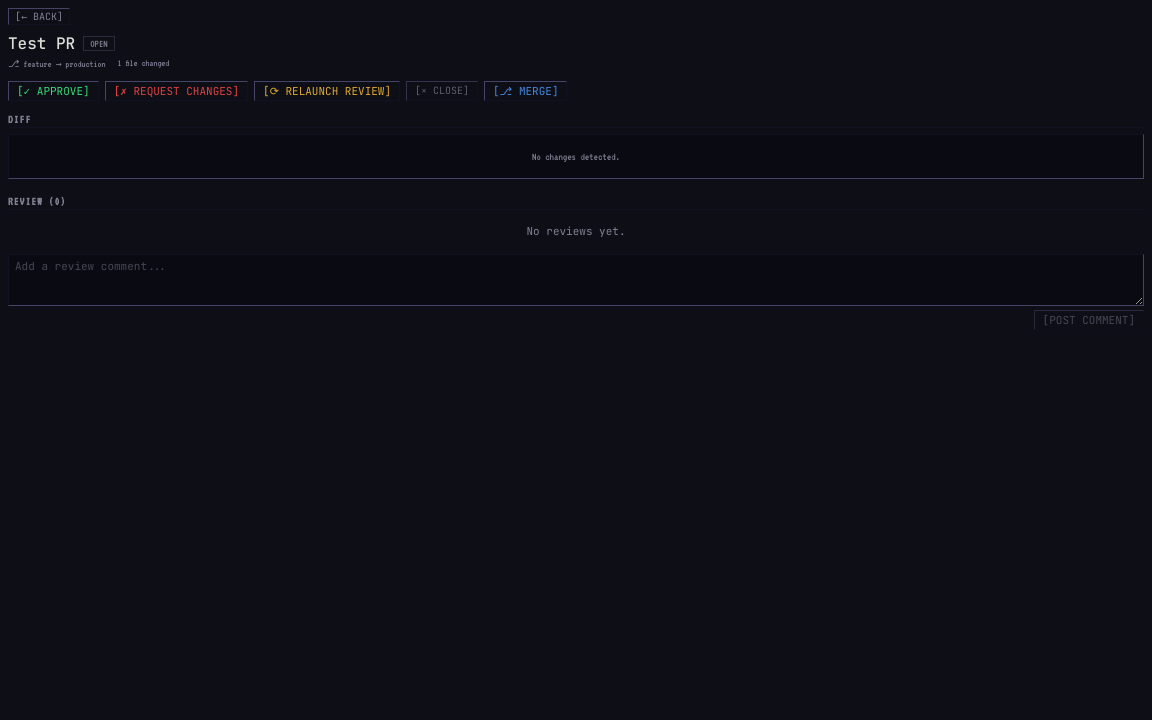
Test: PRDetail — Merge confirmation › includes target branch in confirmation message
Click the button "[⎇ MERGE]". click: (526, 91)
box: [484,81,568,101]
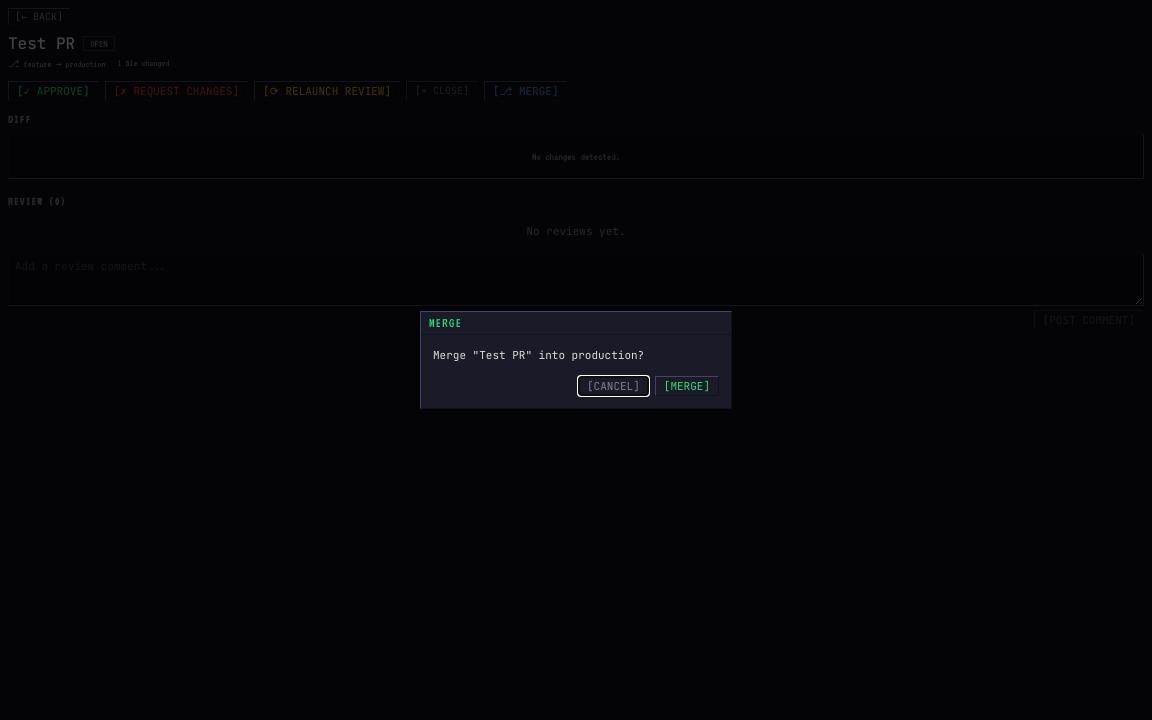
Expected: the dialog is shown, [420,311,732,409]
Expected: the text "Merge \"Test PR\" into production?" is shown, [433,348,644,362]
